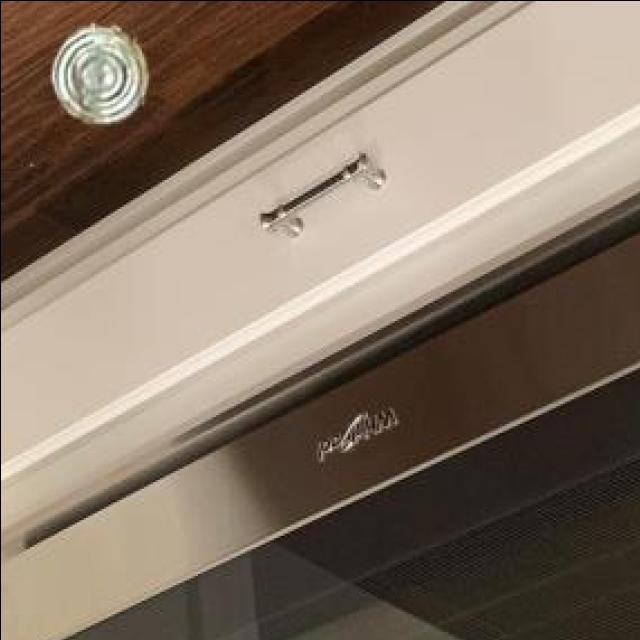logam: (57, 26, 151, 124)
